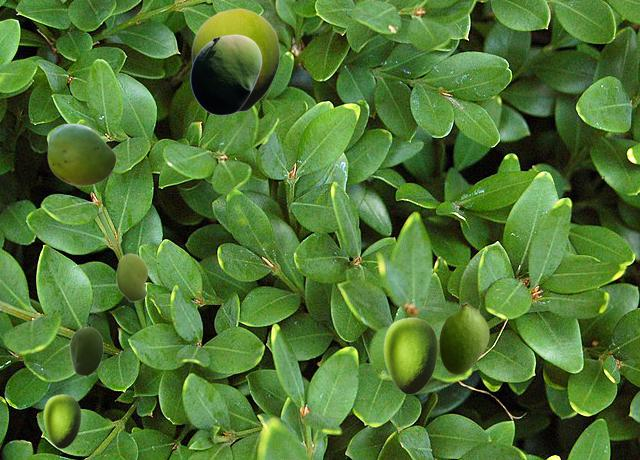green_mango: (191, 8, 279, 111), (190, 34, 261, 114), (47, 123, 115, 185), (383, 317, 437, 393), (439, 302, 488, 373), (43, 394, 80, 447), (69, 324, 102, 377), (116, 253, 147, 301)
